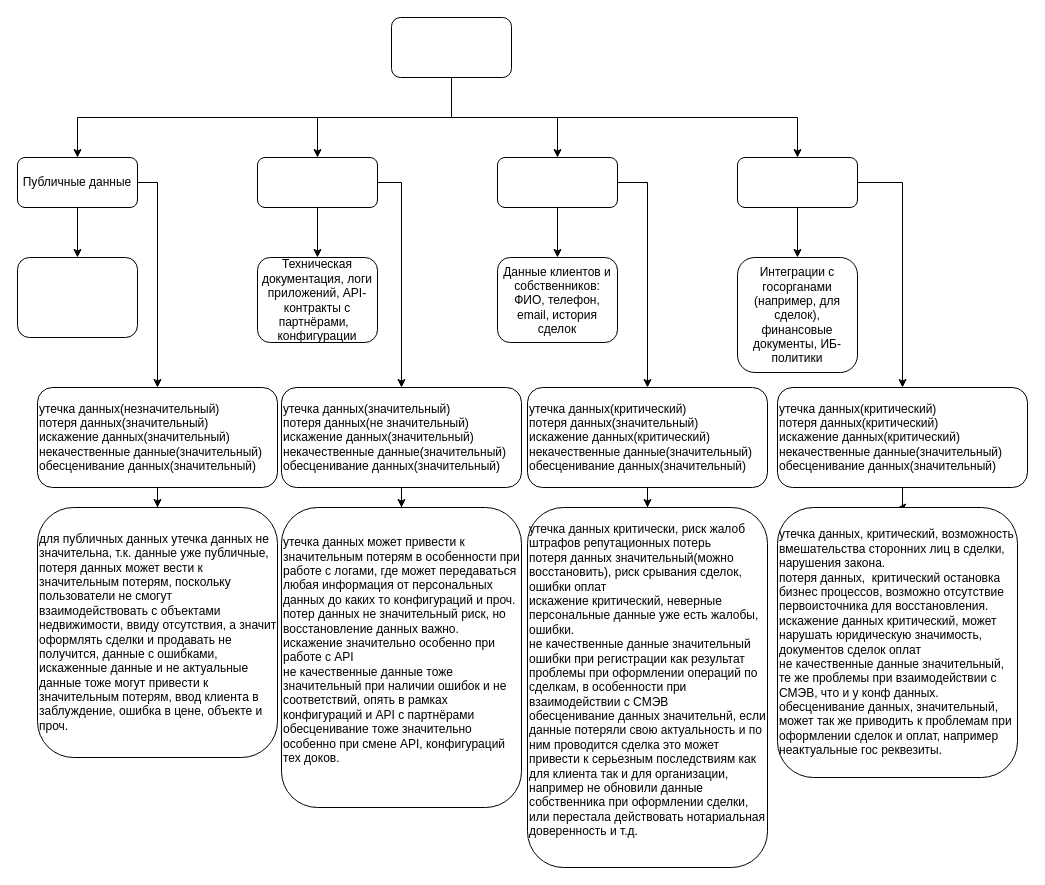
This 1045x885 diagram has some shape labels left out. The centre of each missing label's shape, as x and y in pixels:
"Безопасность данных" belongs at (x=451, y=47).
"Внутренние данные" belongs at (x=317, y=182).
"Конфидециальные данные" belongs at (x=557, y=182).
"Описание ЖК, цены, фото, тарифы ЖКХ 3-d тур без регистрации" belongs at (x=77, y=297).
"Секретные данные" belongs at (x=797, y=182).
